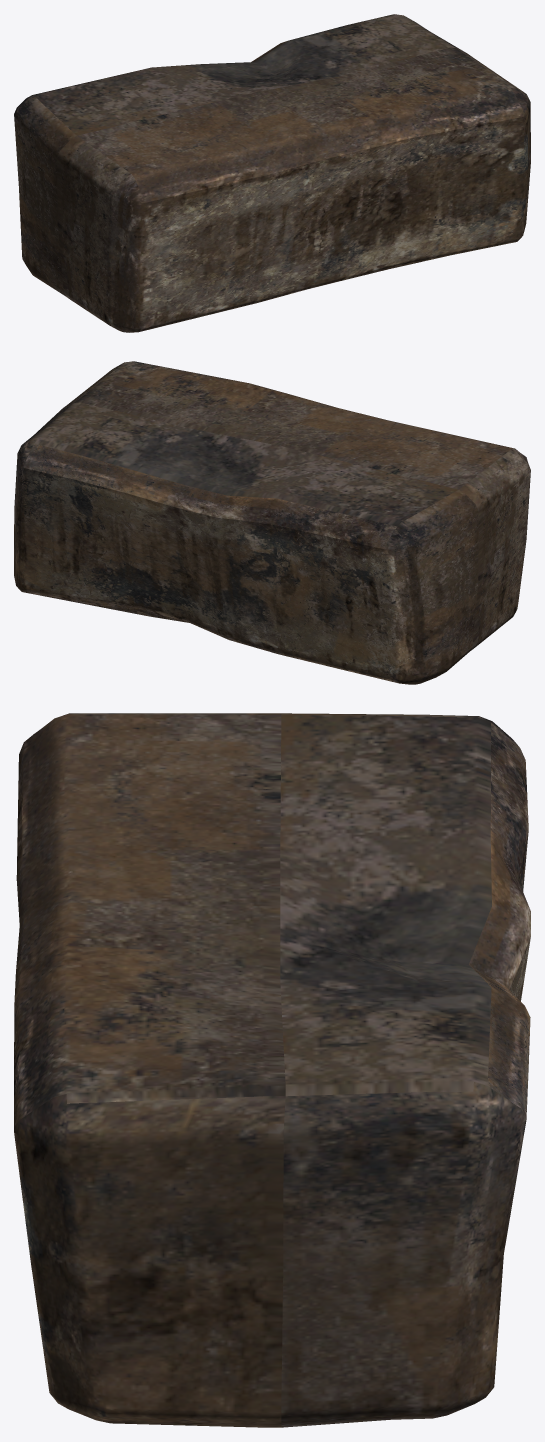
Rendered from wall_taureg_blocks01_detail.dae.
3 renders of one model, top to bottom at view 1: azimuth 30°, elevation 25°; view 2: azimuth 150°, elevation 25°; view 3: azimuth 270°, elevation 25°, orthographic. The views are drawn at different scales.
Parts seen in each view (by area): view 1: wall_taureg_blocks_01_detail; view 2: wall_taureg_blocks_01_detail; view 3: wall_taureg_blocks_01_detail.
Boxes of the visible parts, x1=… form: wall_taureg_blocks_01_detail: x1=14, y1=14, x2=530, y2=332; wall_taureg_blocks_01_detail: x1=14, y1=361, x2=530, y2=684; wall_taureg_blocks_01_detail: x1=14, y1=713, x2=530, y2=1427.
Size of the model in its own units: 116 by 45.16 by 61.49.
